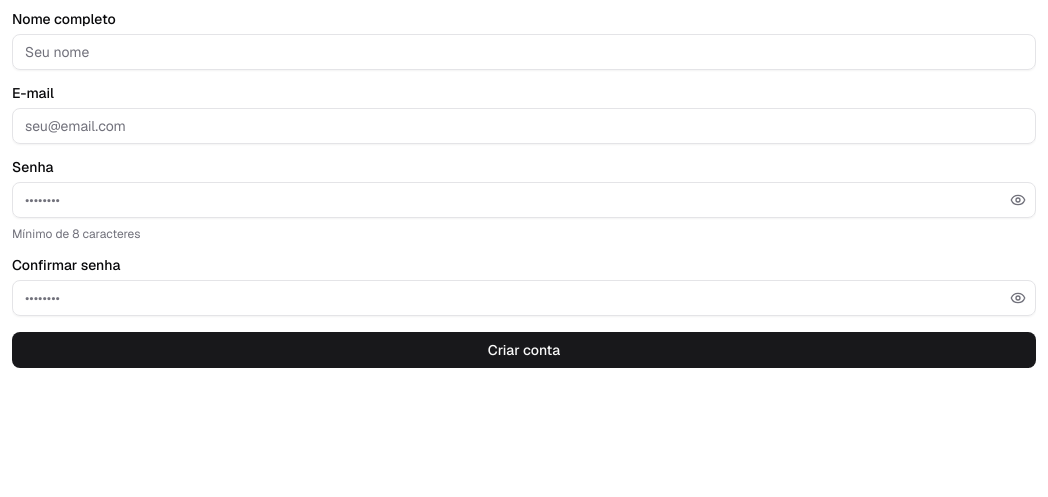
Test case: RegisterForm › Validação de Formulário › should show error for name less than 3 characters
Type "AB" into the field labelled "Nome completo". click: (524,52)
box: [12, 34, 1036, 70]
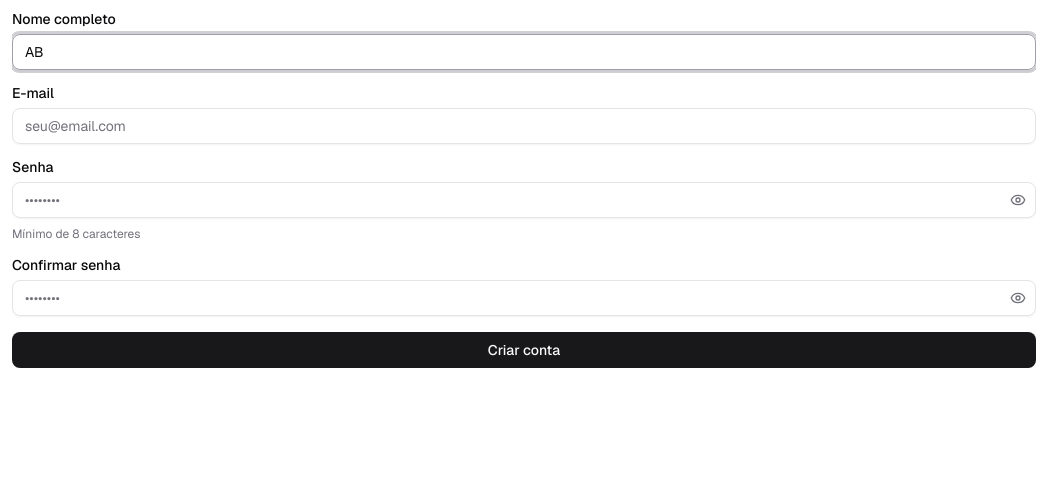
Click the button "Criar conta". click: (524,350)
box: [12, 332, 1036, 368]
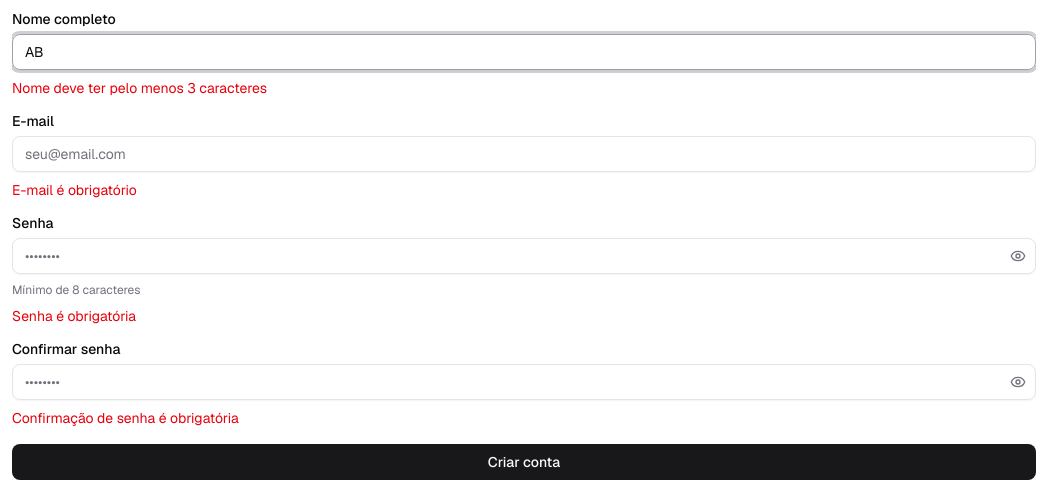
Now the text "Nome deve ter pelo menos 3 caracteres" is shown, box [12, 79, 267, 97]
